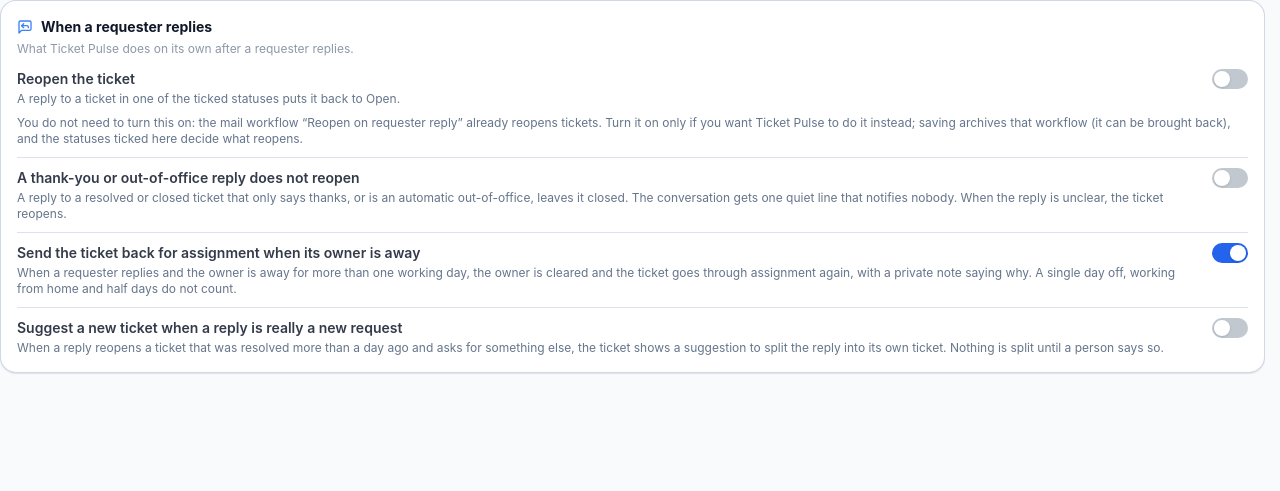
Test: RequesterRepliesSection › turning the reopen on shows the tick list with the suggested statuses ticked; Save sends exactly those, then names what it replaced
The image size is (1280, 491).
Click the switch named "Reopen the ticket".
click(1230, 79)  # box [1212,69,1248,89]
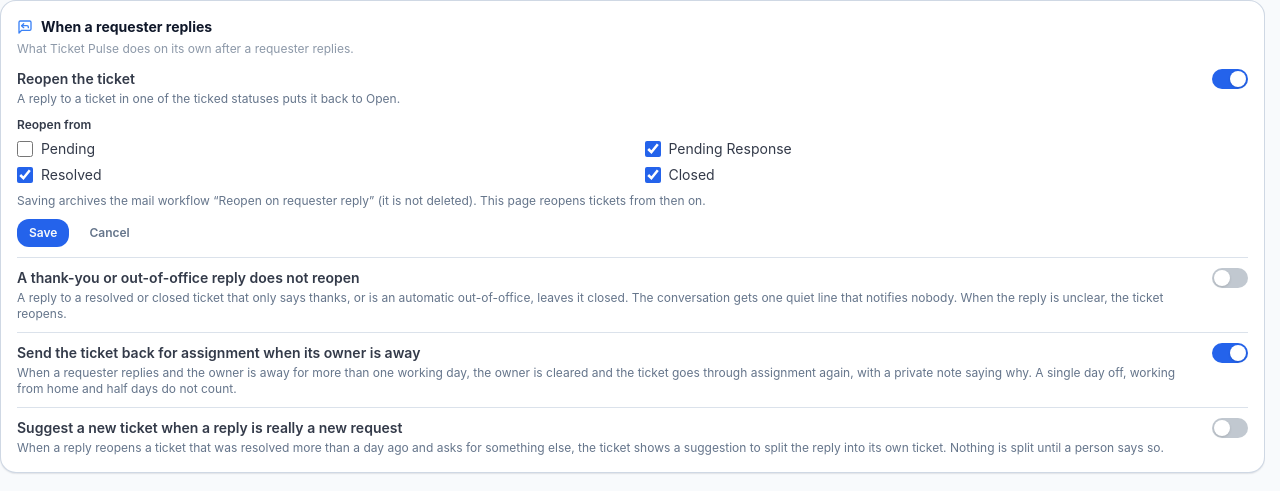
Now the checkbox labelled "Resolved" is checked, box [17,167,33,183]
Now the checkbox labelled "Closed" is checked, box [644,167,660,183]
Now the checkbox labelled "Pending Response" is checked, box [644,141,660,157]
Click the button "Save".
click(43, 233)  # box [17,219,69,247]
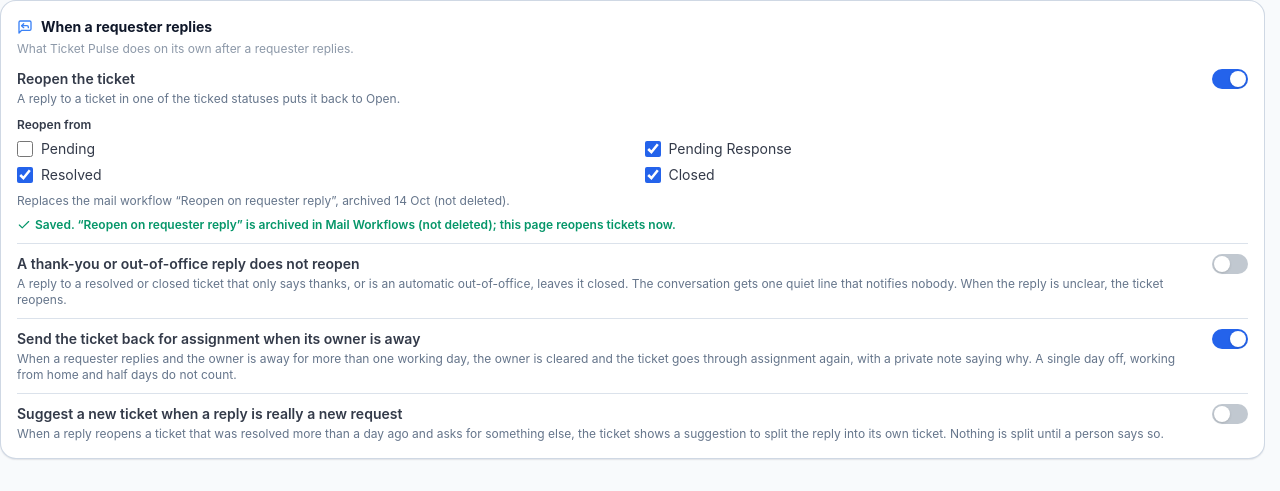
Now the message shows "Saved. “Reopen on requester reply” is archived in Mail Workflows (not deleted); this page reopens tickets now.", box [35,217,676,232]
Now the element with test id "reopen-replaced" shows "Replaces the mail workflow “Reopen on requester reply”, archived 14 Oct (not deleted).", box [17,193,510,208]
